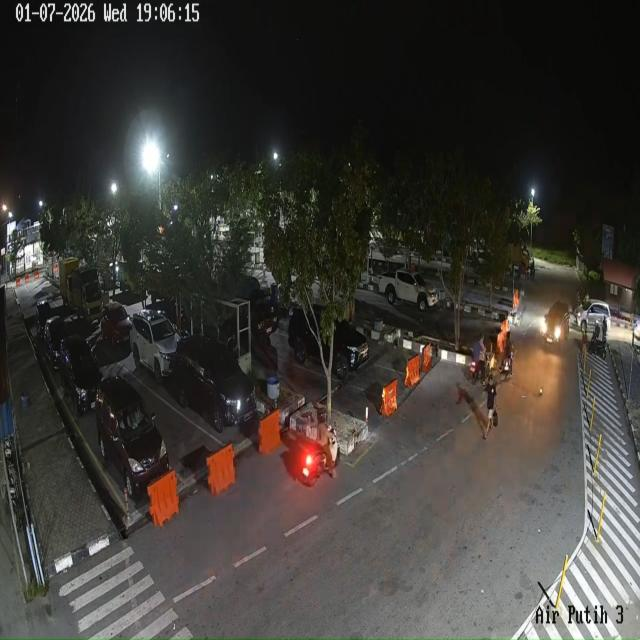Golongan IVA: (96, 376, 169, 498), (173, 336, 256, 432), (288, 306, 369, 380), (130, 309, 178, 384), (59, 335, 102, 417), (101, 301, 131, 347), (44, 316, 68, 370), (575, 299, 611, 332), (542, 301, 570, 343), (36, 300, 52, 339)
Golongan IVB: (378, 270, 438, 311)
Golongan VB: (58, 258, 108, 322)
